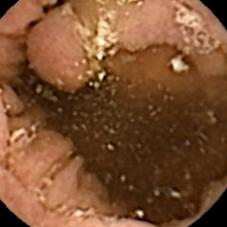Polyp: (26, 7, 98, 93)
